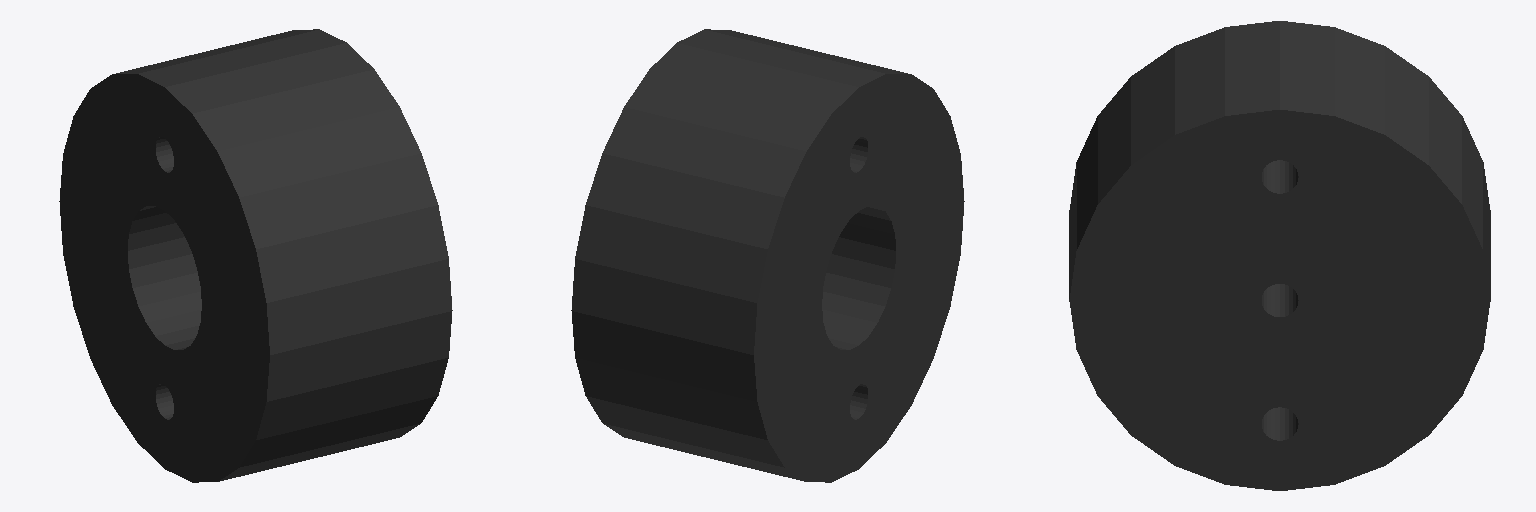
3 renders of one model, left to right at view 1: azimuth 30°, elevation 25°; view 2: azimuth 150°, elevation 25°; view 3: azimuth 270°, elevation 25°, orthographic.
Size of the model in its own units: 17 by 34 by 34.
1 materials, 1 textured.